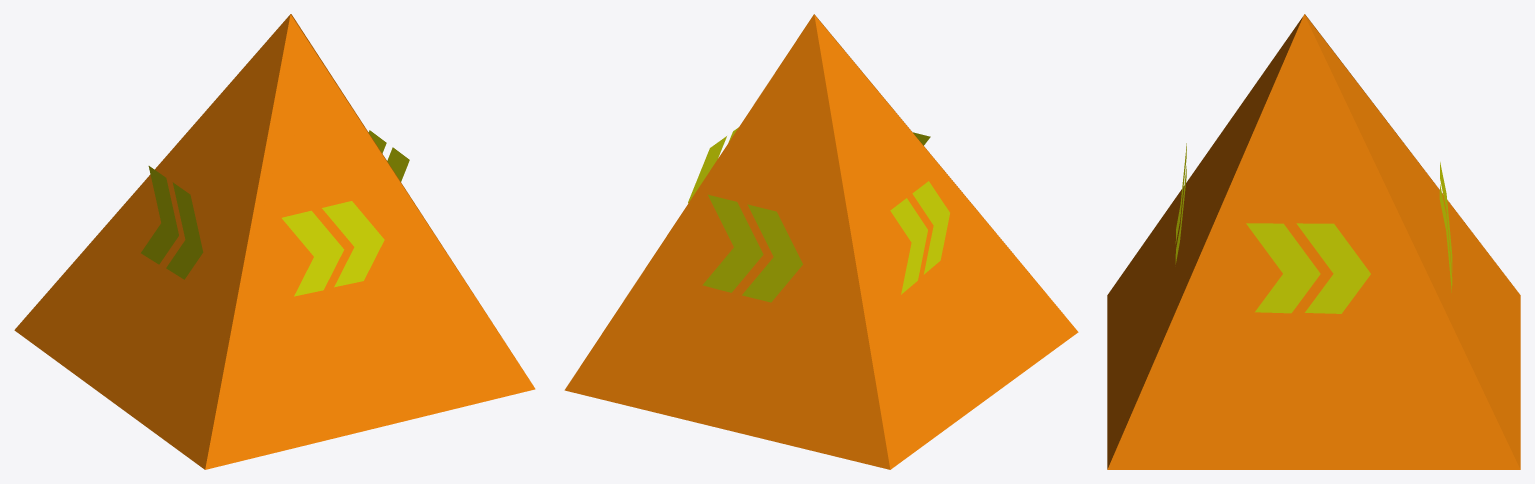
File: soopsSpeeds.glb
The picture shows the model from 3 angles, left to right: view 1: azimuth 30°, elevation 25°; view 2: azimuth 150°, elevation 25°; view 3: azimuth 270°, elevation 25°; orthographic projection. The views are drawn at different scales.
Visible parts, largest first — view 1: Cube, Plane.004; view 2: Cube, Plane.004; view 3: Cube, Plane.004.
Part boxes in pixels (x1=…): Cube: x1=14, y1=14, x2=535, y2=469; Plane.004: x1=141, y1=130, x2=409, y2=296; Cube: x1=564, y1=14, x2=1078, y2=469; Plane.004: x1=688, y1=127, x2=949, y2=302; Cube: x1=1107, y1=14, x2=1520, y2=469; Plane.004: x1=1175, y1=143, x2=1452, y2=313.
Bounding box in the file's own units: 2 × 2 × 2.
